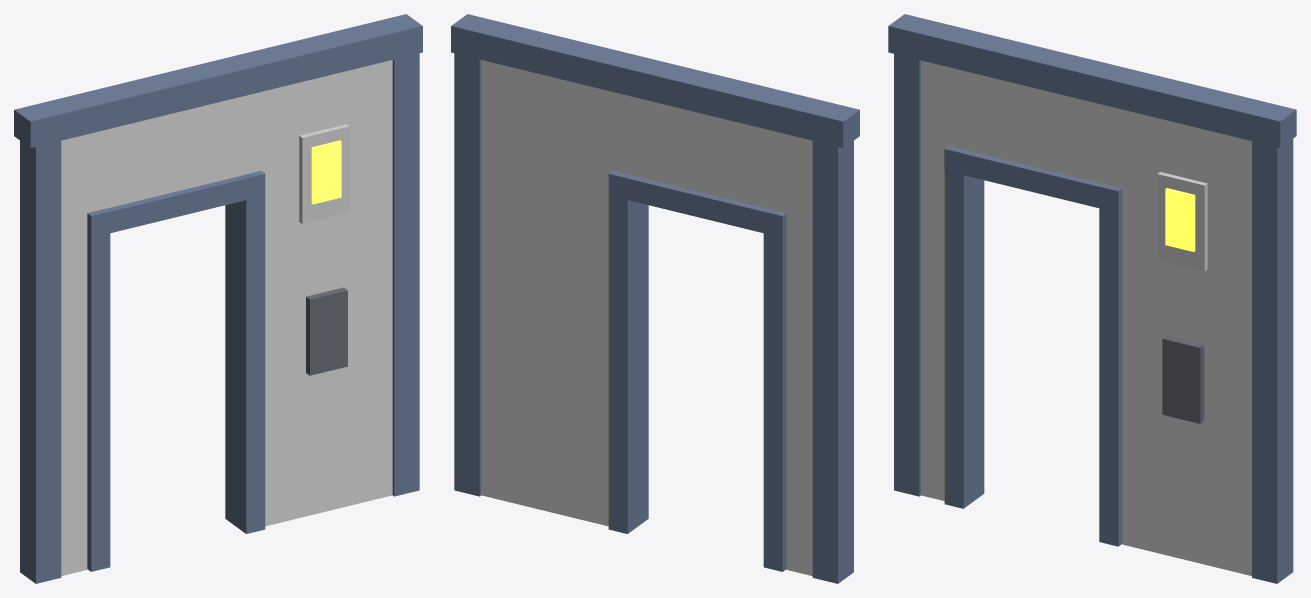
The model's file is 01_wall_door_3_without.glb.
3 renders of one model, left to right at view 1: azimuth 30°, elevation 25°; view 2: azimuth 150°, elevation 25°; view 3: azimuth 330°, elevation 25°, orthographic.
Parts seen in each view (by area): view 1: Wall_Right, part_11, part_10, Wall_Header, part_5.002, part_12, Wall_Left, part_5.001, part_6.001, part_7.001, part_8.001, part_9.001; view 2: Wall_Right, part_11, part_10, Wall_Header, part_5.002, part_12, Wall_Left, part_5.001, part_6.001; view 3: Wall_Right, part_12, part_10, Wall_Header, part_5.001, part_11, Wall_Left, part_5.002, part_6.001, part_7.001, part_8.001, part_9.001.
Part boxes in pixels (x1=…): Wall_Right: x1=261, y1=60, x2=392, y2=526; part_11: x1=20, y1=141, x2=61, y2=583; part_10: x1=14, y1=14, x2=422, y2=147; Wall_Header: x1=87, y1=92, x2=261, y2=212; part_5.002: x1=225, y1=170, x2=265, y2=533; part_12: x1=392, y1=53, x2=419, y2=496; Wall_Left: x1=61, y1=134, x2=87, y2=575; part_5.001: x1=87, y1=208, x2=110, y2=571; part_6.001: x1=91, y1=174, x2=265, y2=237; part_7.001: x1=306, y1=287, x2=347, y2=375; part_8.001: x1=299, y1=124, x2=349, y2=223; part_9.001: x1=311, y1=140, x2=341, y2=204; Wall_Right: x1=481, y1=60, x2=612, y2=526; part_11: x1=812, y1=141, x2=853, y2=583; part_10: x1=451, y1=14, x2=859, y2=147; Wall_Header: x1=612, y1=92, x2=786, y2=212; part_5.002: x1=608, y1=170, x2=648, y2=533; part_12: x1=454, y1=53, x2=481, y2=496; Wall_Left: x1=786, y1=134, x2=812, y2=575; part_5.001: x1=763, y1=208, x2=786, y2=571; part_6.001: x1=608, y1=174, x2=782, y2=237; Wall_Right: x1=1122, y1=109, x2=1251, y2=575; part_12: x1=1252, y1=139, x2=1293, y2=583; part_10: x1=888, y1=14, x2=1296, y2=147; Wall_Header: x1=948, y1=67, x2=1122, y2=187; part_5.001: x1=944, y1=146, x2=984, y2=508; part_11: x1=894, y1=54, x2=920, y2=496; Wall_Left: x1=921, y1=60, x2=948, y2=500; part_5.002: x1=1099, y1=183, x2=1122, y2=546; part_6.001: x1=944, y1=149, x2=1122, y2=212; part_7.001: x1=1162, y1=335, x2=1204, y2=423; part_8.001: x1=1157, y1=172, x2=1207, y2=271; part_9.001: x1=1165, y1=188, x2=1195, y2=251.
Size of the model in its own units: 2.64 by 2.99 by 0.25.
